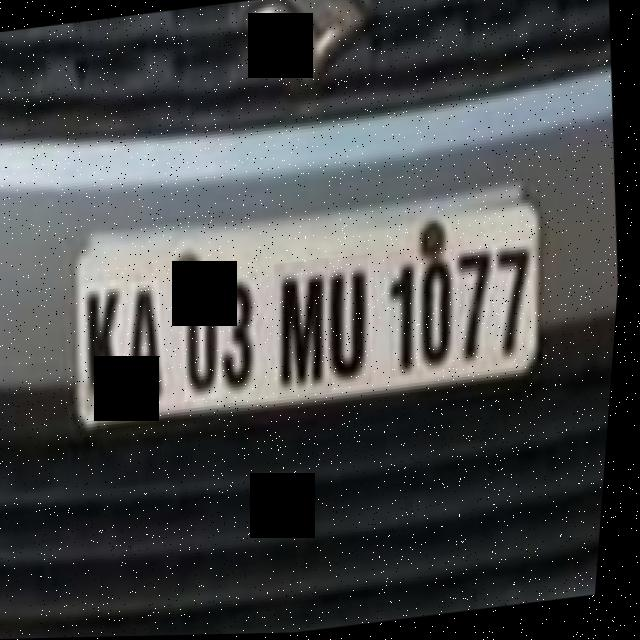0: (412, 247, 469, 375), (178, 277, 235, 403)
1: (383, 251, 430, 379)
3: (216, 273, 274, 407)
7: (448, 242, 506, 370), (492, 240, 548, 370)
A: (123, 279, 177, 409)
K: (78, 279, 139, 414)
M: (270, 259, 345, 401)
U: (322, 255, 385, 390)
